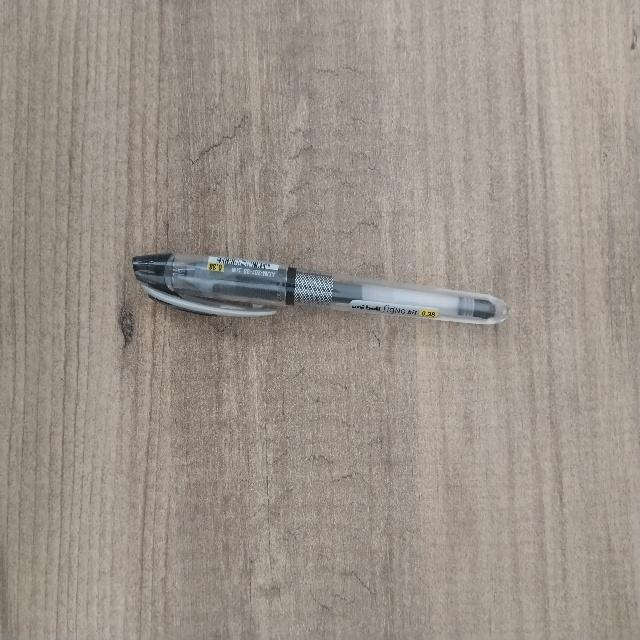pen: (132, 254, 507, 323)
